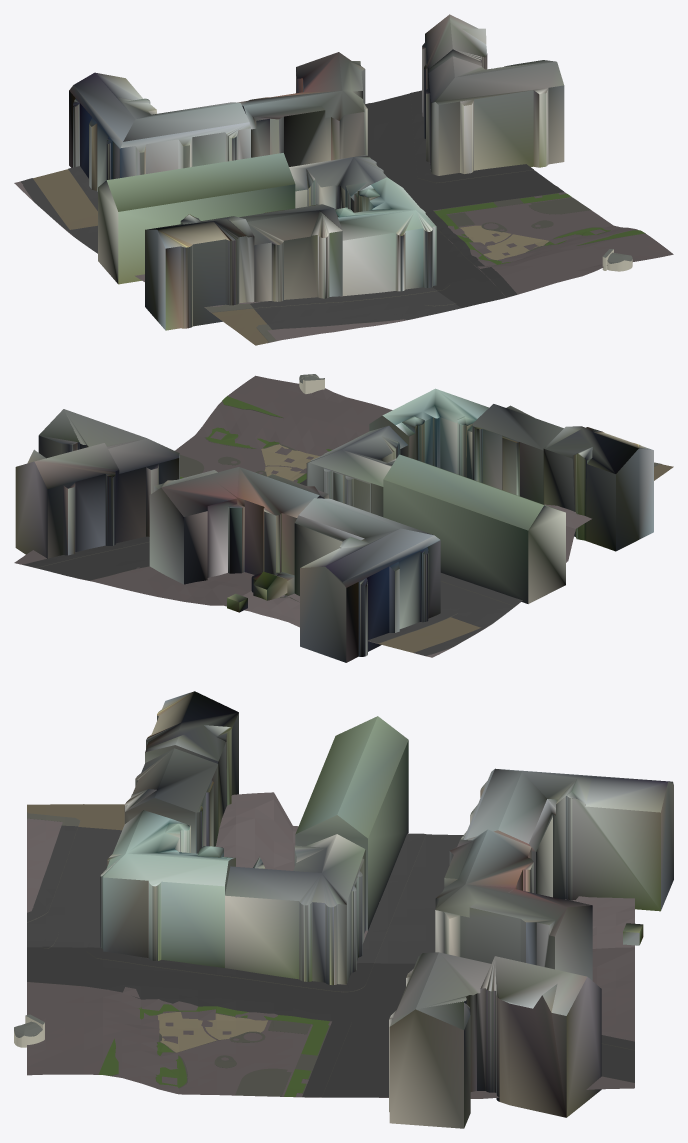
The picture shows the model from 3 angles, top to bottom: view 1: azimuth 30°, elevation 25°; view 2: azimuth 150°, elevation 25°; view 3: azimuth 270°, elevation 25°; orthographic projection. The views are drawn at different scales.
Parts seen in each view (by area): view 1: c_m11_m05, append:c_m11_m05; view 2: c_m11_m05, append:c_m11_m05; view 3: c_m11_m05, append:c_m11_m05.
Boxes of the visible parts, x1,y1,x2,y2 form: c_m11_m05: (69, 14, 673, 330); append:c_m11_m05: (14, 166, 460, 345); c_m11_m05: (14, 374, 653, 662); append:c_m11_m05: (243, 462, 673, 657); c_m11_m05: (14, 691, 673, 1128); append:c_m11_m05: (27, 792, 634, 963).
Size of the model in its own units: 152 by 31.32 by 139.
